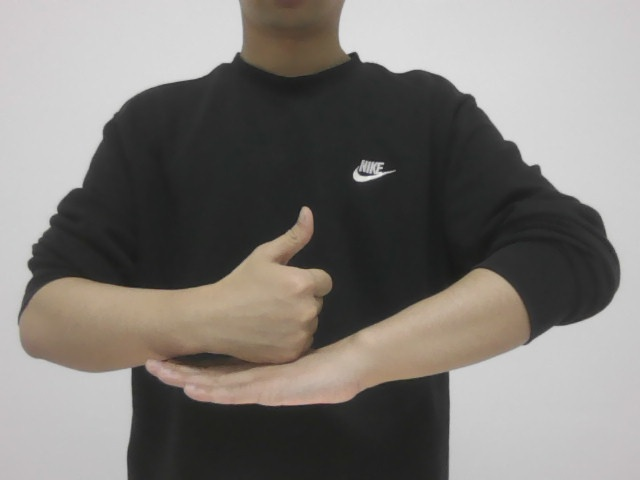new: (140, 202, 383, 414)
